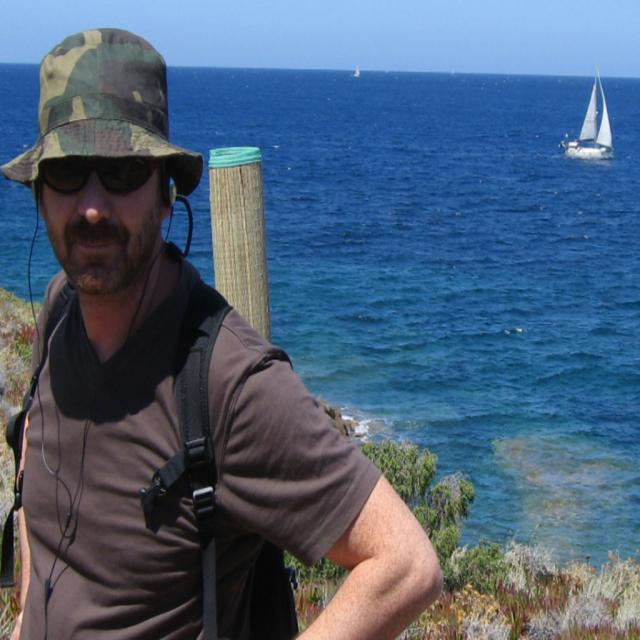Hat: (1, 23, 206, 200)
